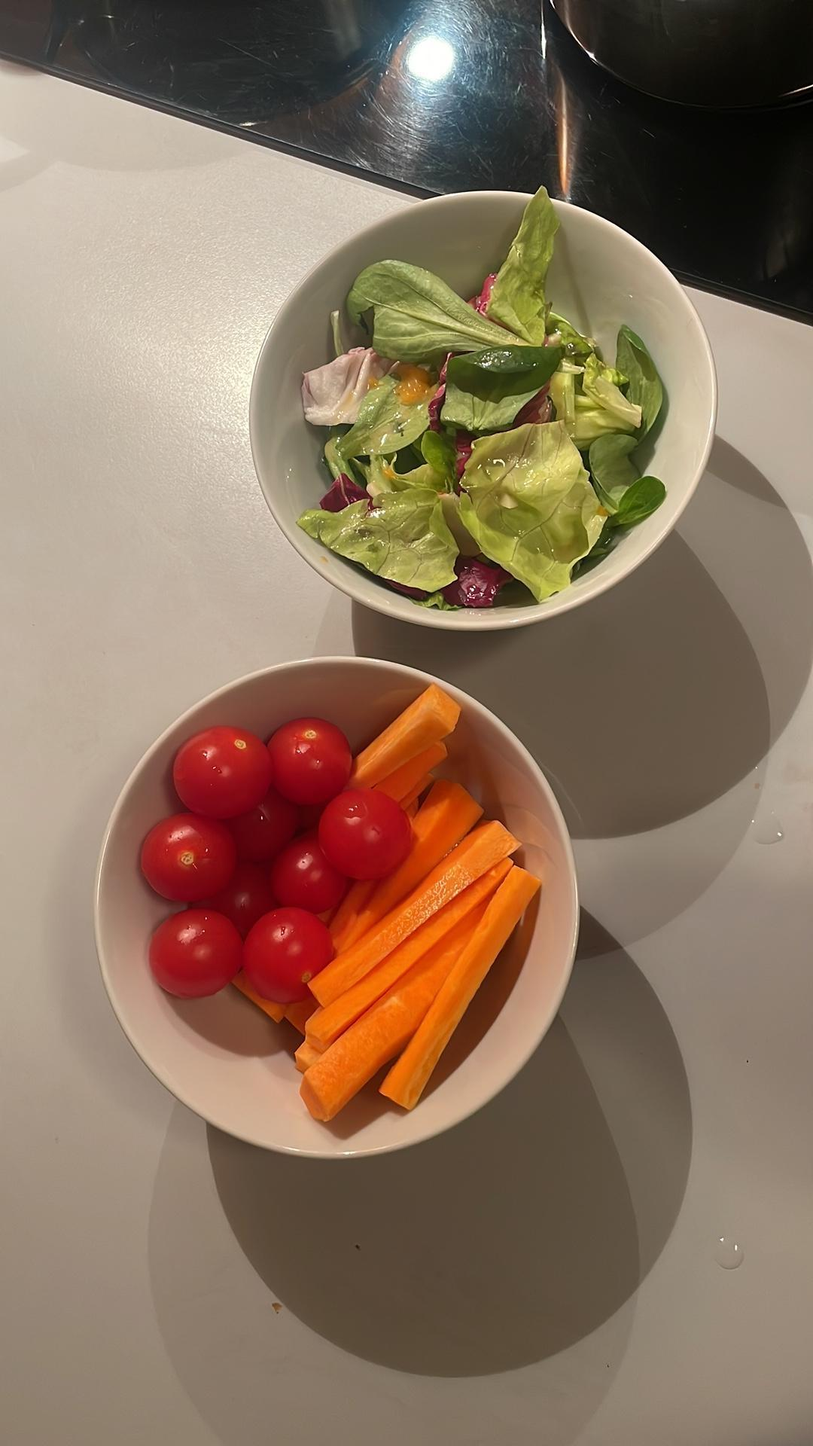carrot: (295, 856, 525, 1121), (377, 866, 541, 1109), (310, 822, 514, 1011), (353, 696, 463, 786)
lettuce: (460, 428, 603, 595), (346, 252, 537, 353), (296, 492, 460, 597), (438, 338, 574, 427), (486, 183, 564, 336), (339, 368, 440, 465), (571, 329, 660, 439), (302, 345, 394, 430), (590, 435, 671, 526)
tomato: (315, 779, 413, 879), (137, 809, 240, 903), (171, 725, 271, 820), (142, 906, 242, 998), (259, 720, 353, 801), (248, 906, 323, 1000), (276, 824, 337, 912), (230, 794, 296, 859)
